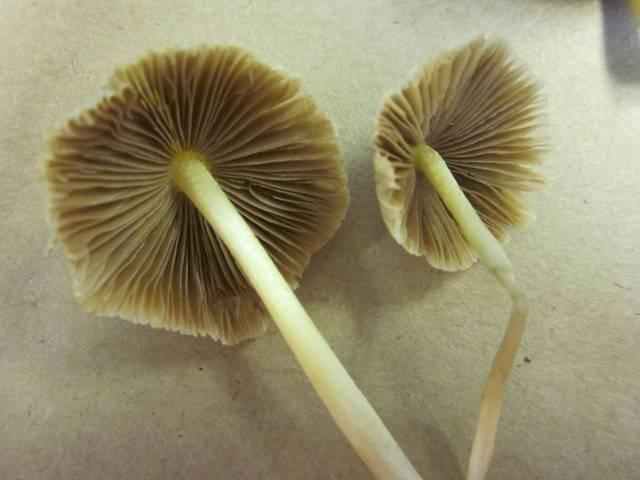Edible Mushroom: (45, 38, 355, 406), (372, 32, 554, 478)
